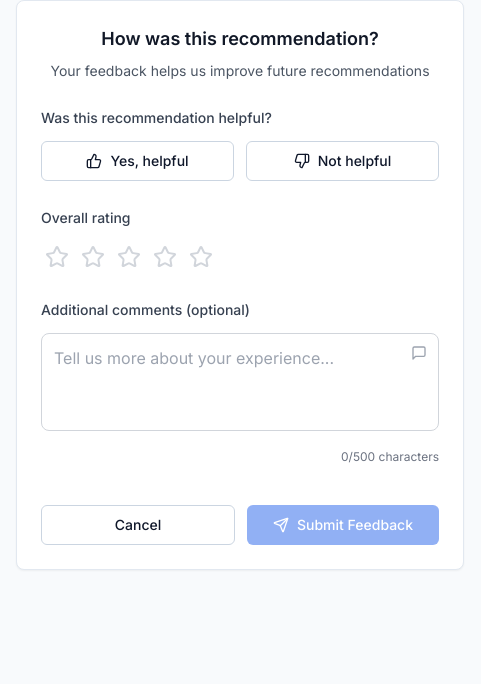
Test case: RecommendationFeedback › shows feedback categories when helpful is selected
The width and height of the screenshot is (481, 684).
Click the button "Yes, helpful" at (138, 161), box 41,141 -> 234,181
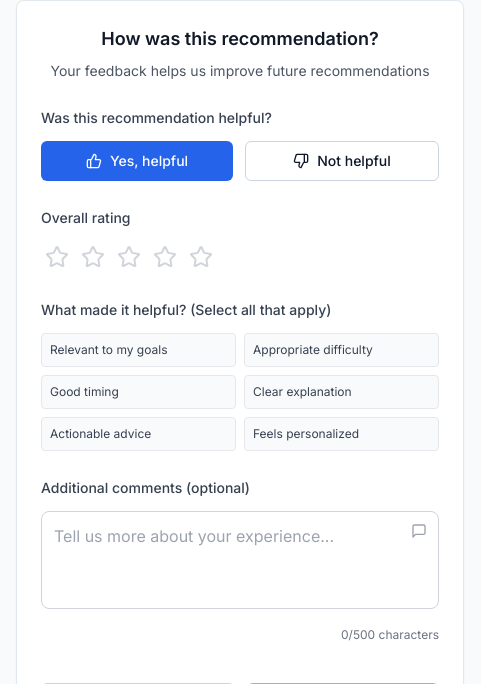
expect the text "What made it helpful? (Select all that apply)" is shown: met, box 41,301 -> 331,318
expect the button "Relevant to my goals" is shown: met, box 41,333 -> 236,367
expect the button "Appropriate difficulty" is shown: met, box 244,333 -> 439,367
